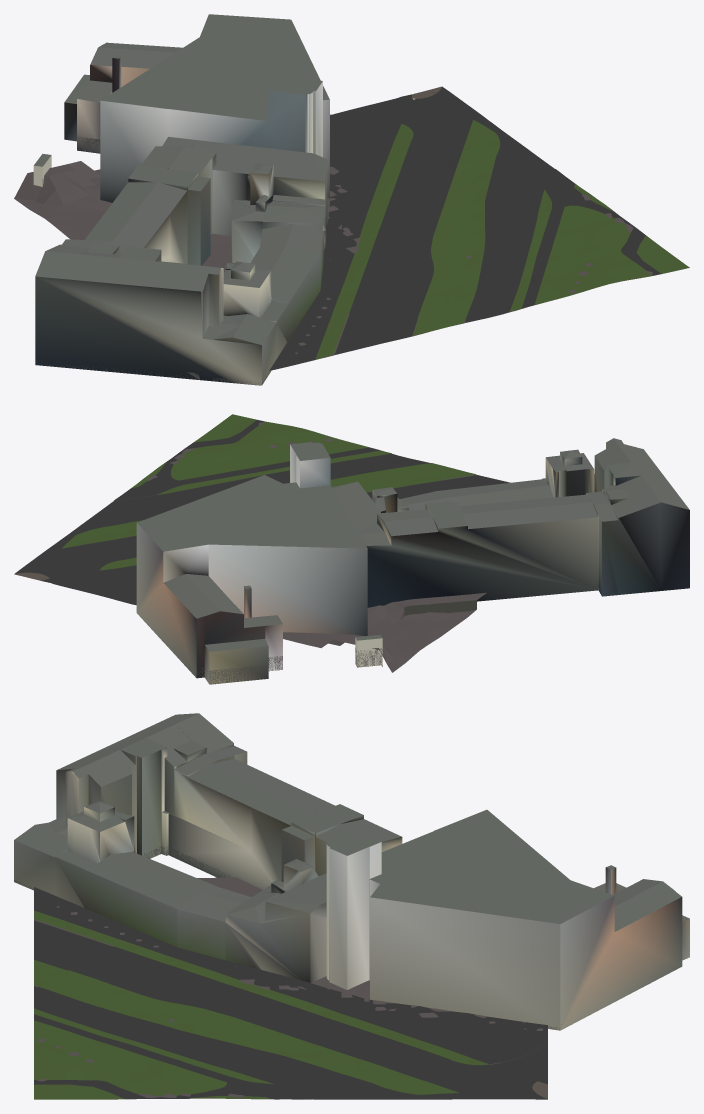
3 views of the same model, one above another, from view 1: azimuth 30°, elevation 25°; view 2: azimuth 150°, elevation 25°; view 3: azimuth 270°, elevation 25° (orthographic). The views are drawn at different scales.
Parts seen in each view (by area): view 1: c_p03_m11; view 2: c_p03_m11; view 3: c_p03_m11.
Part boxes in pixels (x1,y1,x2,y2): c_p03_m11: (14, 14, 689, 385); c_p03_m11: (14, 414, 689, 684); c_p03_m11: (14, 713, 689, 1099).
Size of the model in its own units: 175 by 39.11 by 168.
